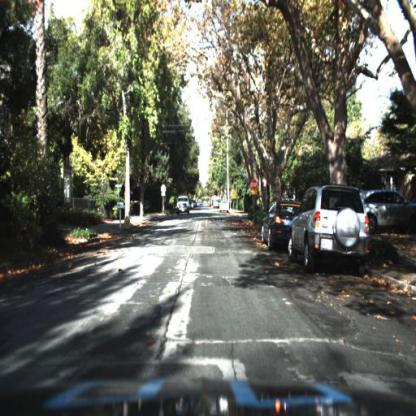car: (289, 183, 372, 276), (258, 200, 301, 251), (176, 195, 191, 218), (219, 199, 231, 218)
